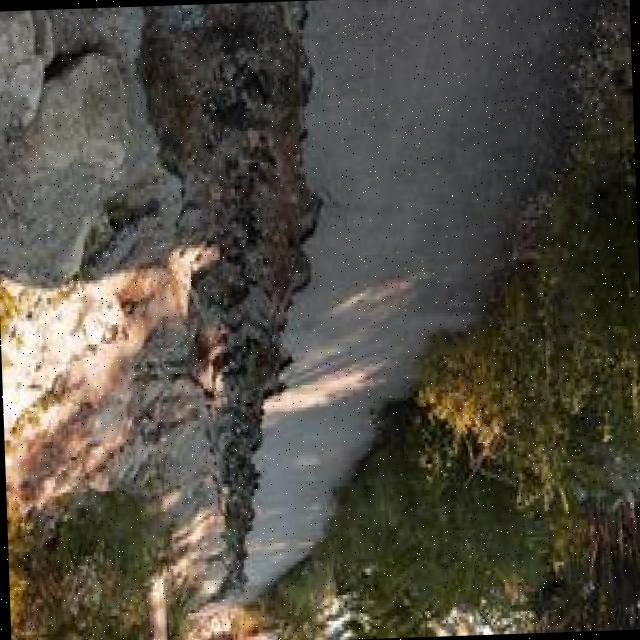road collapse: (14, 1, 320, 628)
